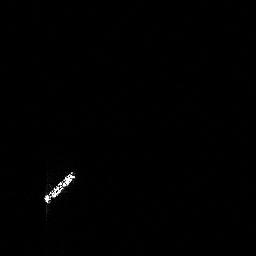ship: (39, 167, 79, 207)
